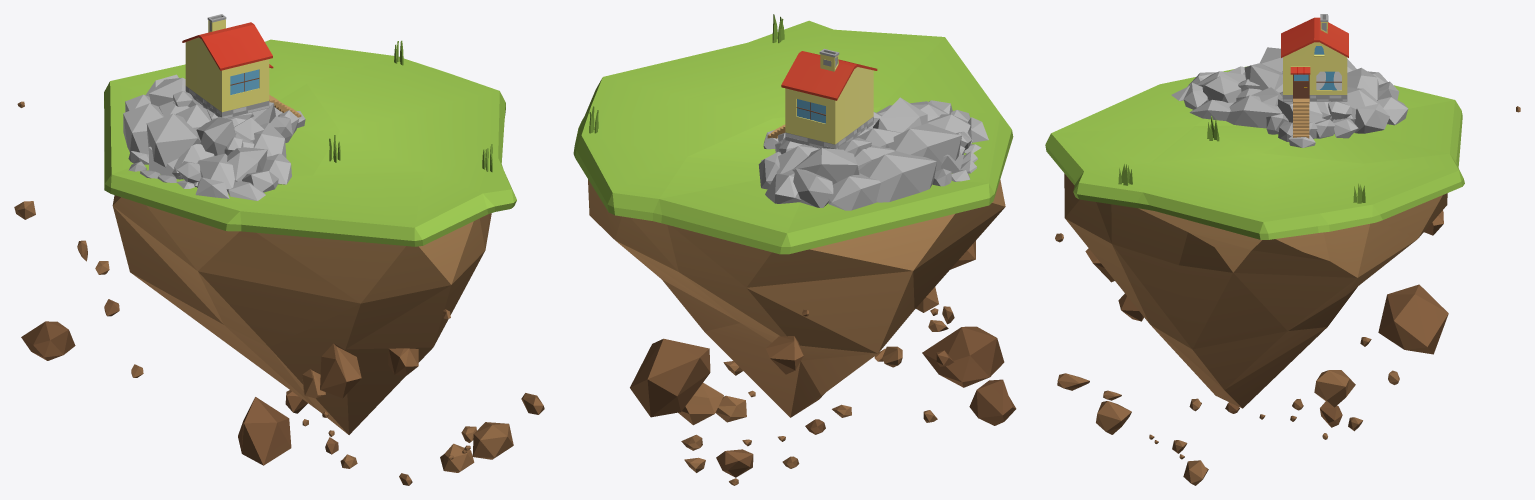
File: Isla 1.glb
The picture shows the model from 3 angles, left to right: view 1: azimuth 30°, elevation 25°; view 2: azimuth 150°, elevation 25°; view 3: azimuth 270°, elevation 25°; orthographic projection. The views are drawn at different scales.
Parts seen in each view (by area): view 1: Plane.003; view 2: Plane.003; view 3: Plane.003.
Boxes of the visible parts, x1=… form: Plane.003: x1=14, y1=14, x2=544, y2=485; Plane.003: x1=573, y1=16, x2=1016, y2=485; Plane.003: x1=1045, y1=14, x2=1520, y2=485.
Size of the model in its own units: 7.19 by 7.05 by 7.68.
Materials: 1 (1 with a texture image).
